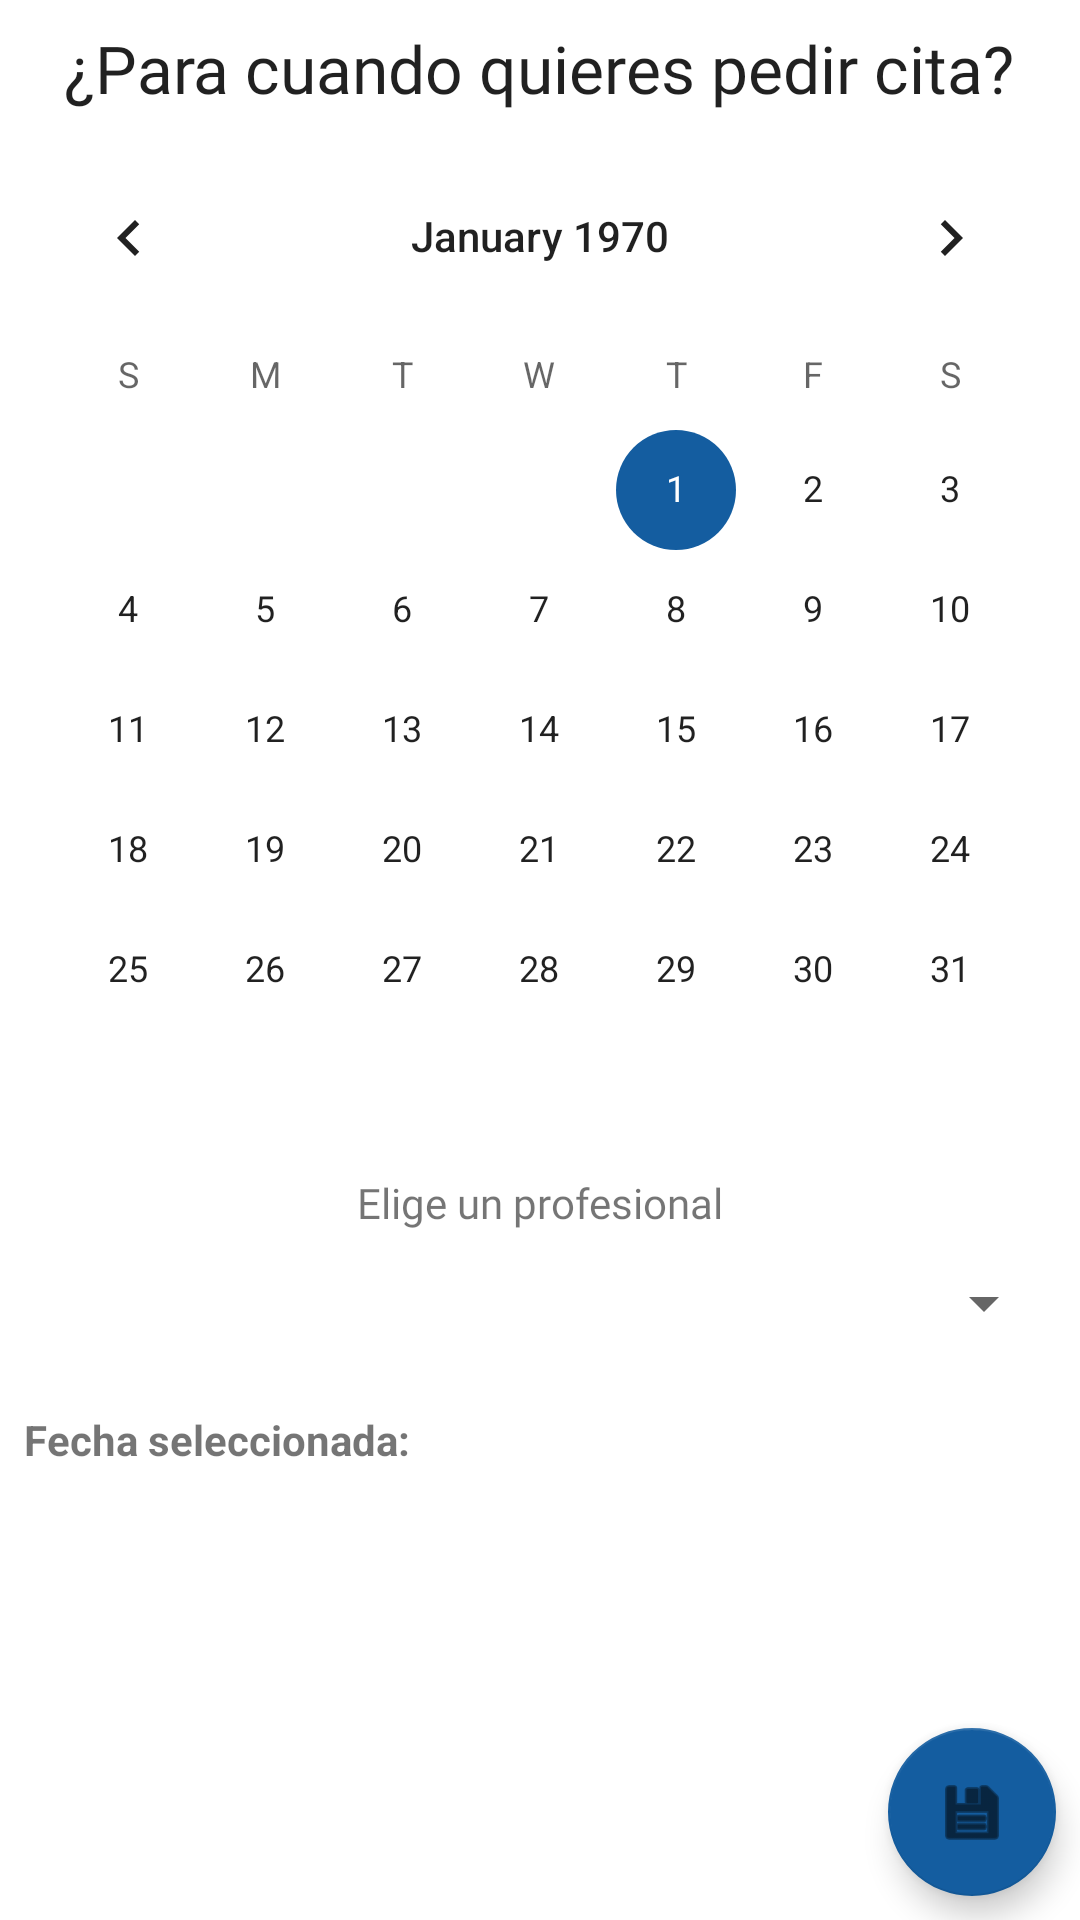

Where icons sit on this 1080*1920 app screen, as (x1=x1, y1=y1, x2=x2, y2=y2):
save: (x1=888, y1=1728, x2=1056, y2=1896)
